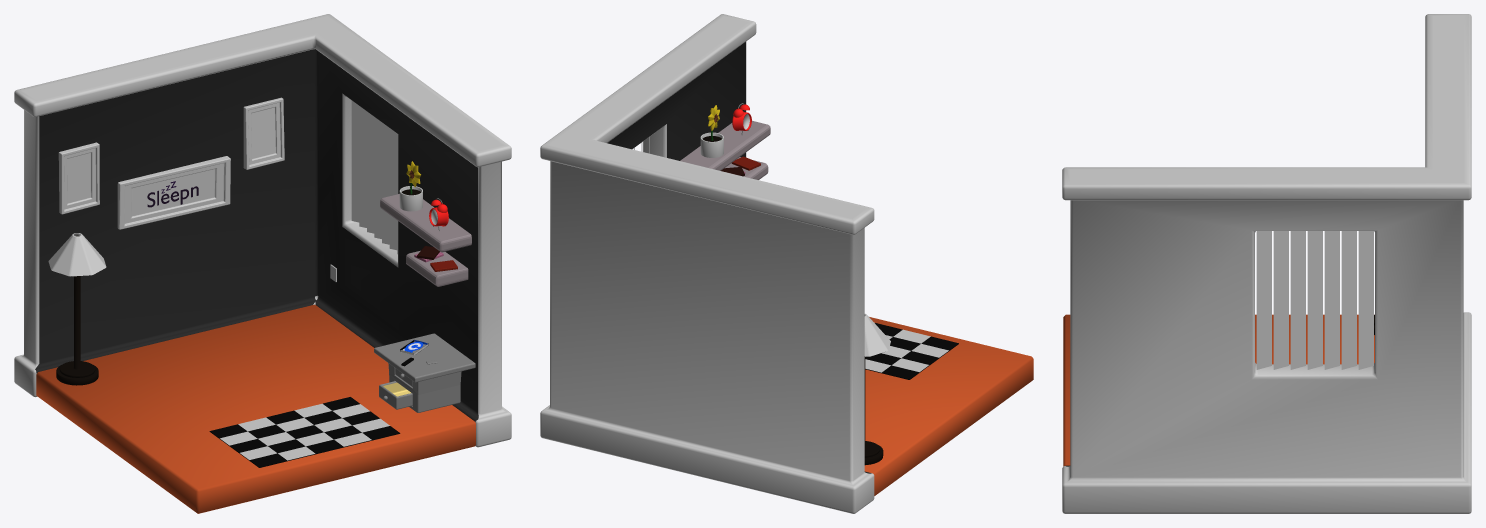
The model's file is STATICcartoonroom.obj.
The picture shows the model from 3 angles, left to right: view 1: azimuth 30°, elevation 25°; view 2: azimuth 150°, elevation 25°; view 3: azimuth 270°, elevation 25°; orthographic projection. The views are drawn at different scales.
Parts seen in each view (by area): view 1: Room_Walls_Cube.001, Plane_Plane.001, Rug_Plane.017, Frame2_Cube.007, Window_Shades_Cube.021, Nightstand_Plane.015, RoomLamp_Cylinder, Frame3_Cube.008, Frame1_Cube.006, Top_Shelf_Cube.005, Bottom_Shelf_Cube.011, Flower_Sphere.001; view 2: Room_Walls_Cube.001, Plane_Plane.001, Rug_Plane.017, Top_Shelf_Cube.005, RoomLamp_Cylinder, Flower_Sphere.001; view 3: Room_Walls_Cube.001, Window_Shades_Cube.021, Plane_Plane.001.
Part boxes in pixels (left/top/right/bottom): Room_Walls_Cube.001: left=14, top=14, right=511, bottom=447; Plane_Plane.001: left=36, top=304, right=475, bottom=513; Rug_Plane.017: left=209, top=397, right=400, bottom=467; Frame2_Cube.007: left=117, top=156, right=230, bottom=229; Window_Shades_Cube.021: left=351, top=100, right=397, bottom=254; Nightstand_Plane.015: left=374, top=333, right=475, bottom=412; RoomLamp_Cylinder: left=48, top=233, right=106, bottom=385; Frame3_Cube.008: left=243, top=97, right=284, bottom=169; Frame1_Cube.006: left=58, top=142, right=99, bottom=214; Top_Shelf_Cube.005: left=380, top=194, right=471, bottom=252; Bottom_Shelf_Cube.011: left=406, top=250, right=468, bottom=286; Flower_Sphere.001: left=399, top=161, right=422, bottom=211; Room_Walls_Cube.001: left=540, top=14, right=874, bottom=513; Plane_Plane.001: left=864, top=317, right=1033, bottom=495; Rug_Plane.017: left=865, top=322, right=958, bottom=379; Top_Shelf_Cube.005: left=680, top=120, right=770, bottom=170; RoomLamp_Cylinder: left=864, top=313, right=890, bottom=465; Flower_Sphere.001: left=700, top=105, right=723, bottom=157; Room_Walls_Cube.001: left=1062, top=14, right=1471, bottom=513; Window_Shades_Cube.021: left=1256, top=231, right=1373, bottom=369; Plane_Plane.001: left=1063, top=314, right=1374, bottom=466.
Size of the model in its own units: 2.26 by 2 by 2.26.
Materials: 21 (1 with a texture image).
